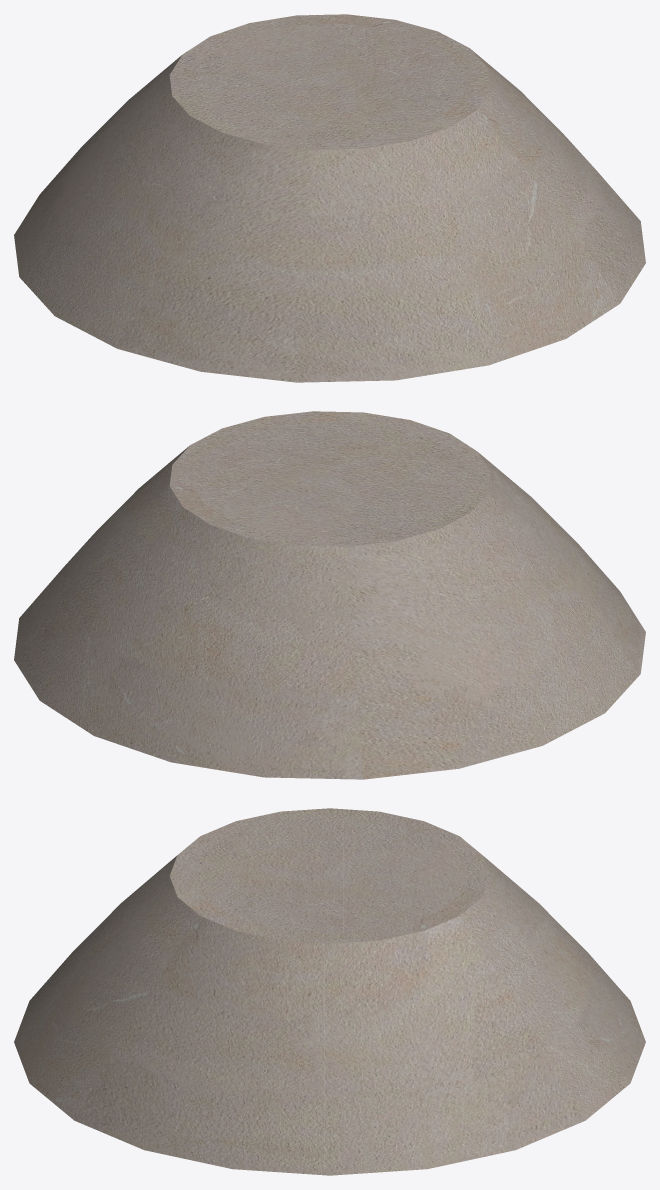
The model's file is Lamp.fbx.
3 views of the same model, one above another, from view 1: azimuth 30°, elevation 25°; view 2: azimuth 150°, elevation 25°; view 3: azimuth 270°, elevation 25° (orthographic).
Visible parts, largest first — view 1: Lamp; view 2: Lamp; view 3: Lamp.
Boxes of the visible parts, x1=… form: Lamp: x1=14, y1=14, x2=645, y2=382; Lamp: x1=14, y1=411, x2=645, y2=779; Lamp: x1=14, y1=808, x2=645, y2=1175.
Bounding box in the file's own units: 3.71 × 1.08 × 3.71.
1 material, 1 textured.
